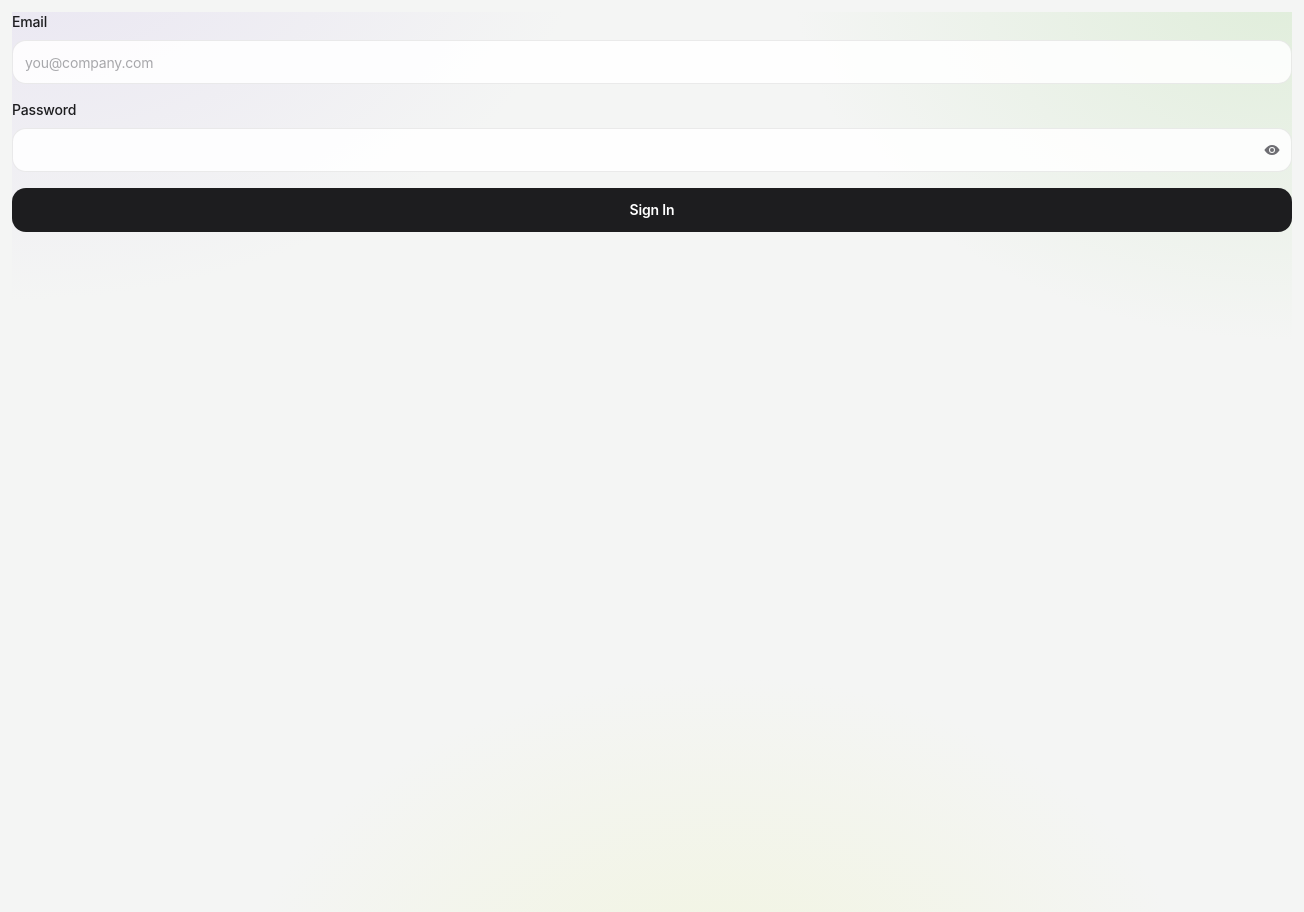
LoginForm › disables the button while signing in
The image size is (1304, 912).
Type "a@b.com" into the field labelled "Email" at (652, 62), box [12,40,1292,84]
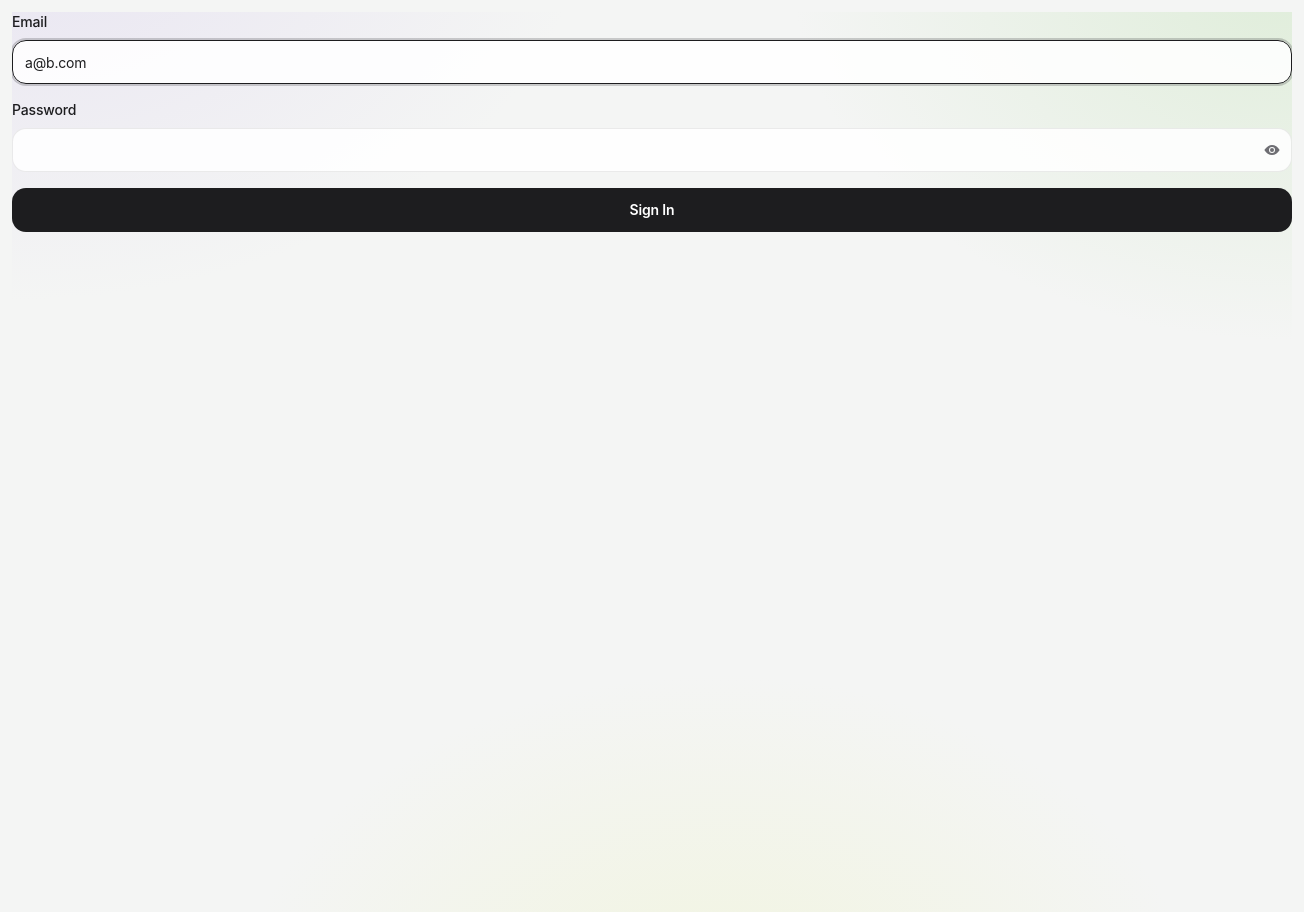
Type "secret123" into the password field labelled "Password" at (652, 150), box [12,128,1292,172]
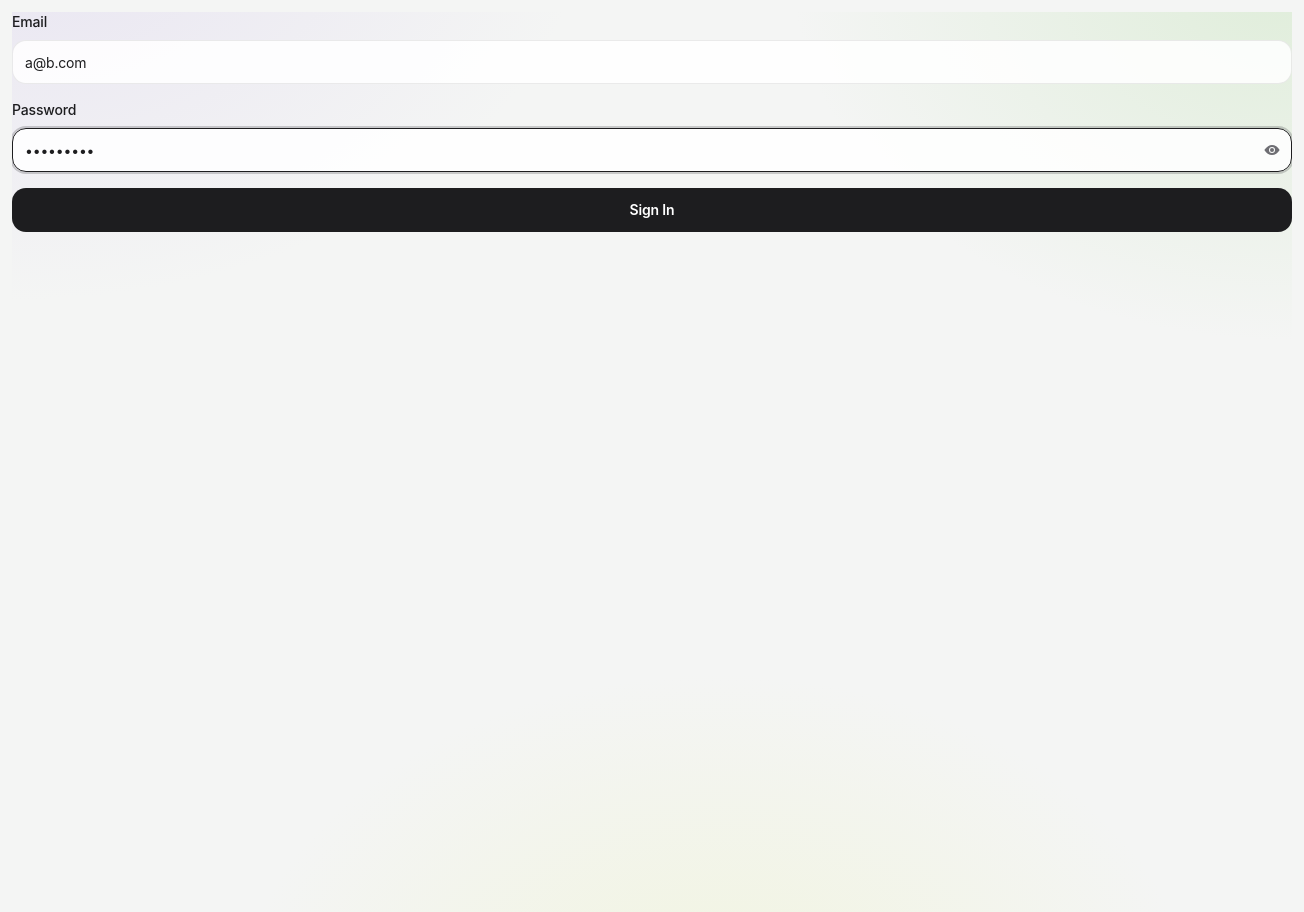
Click the button "Sign In" at (652, 210), box [12,188,1292,232]
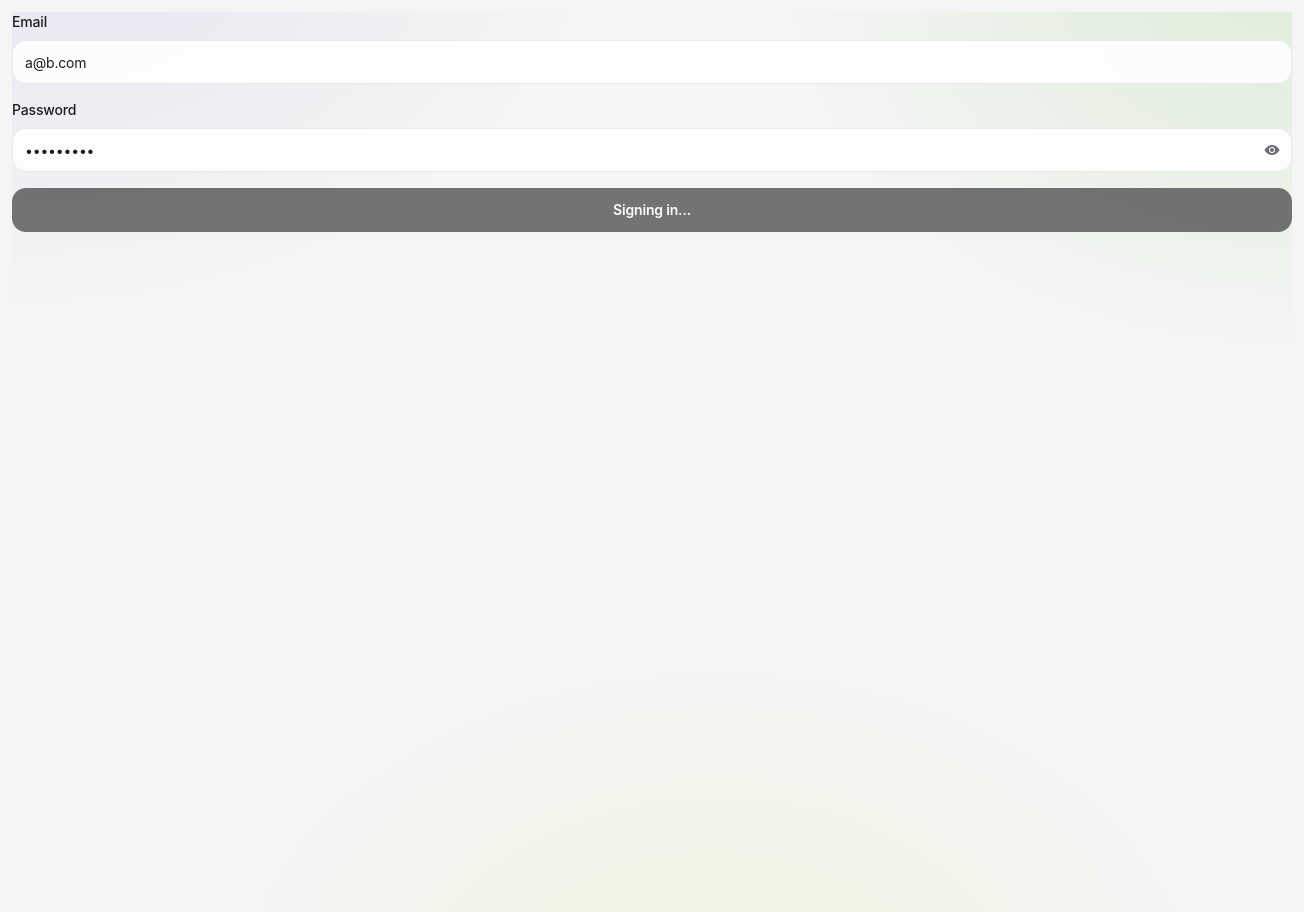
Result: the button "Signing in..." is disabled at [12,188,1292,232]
